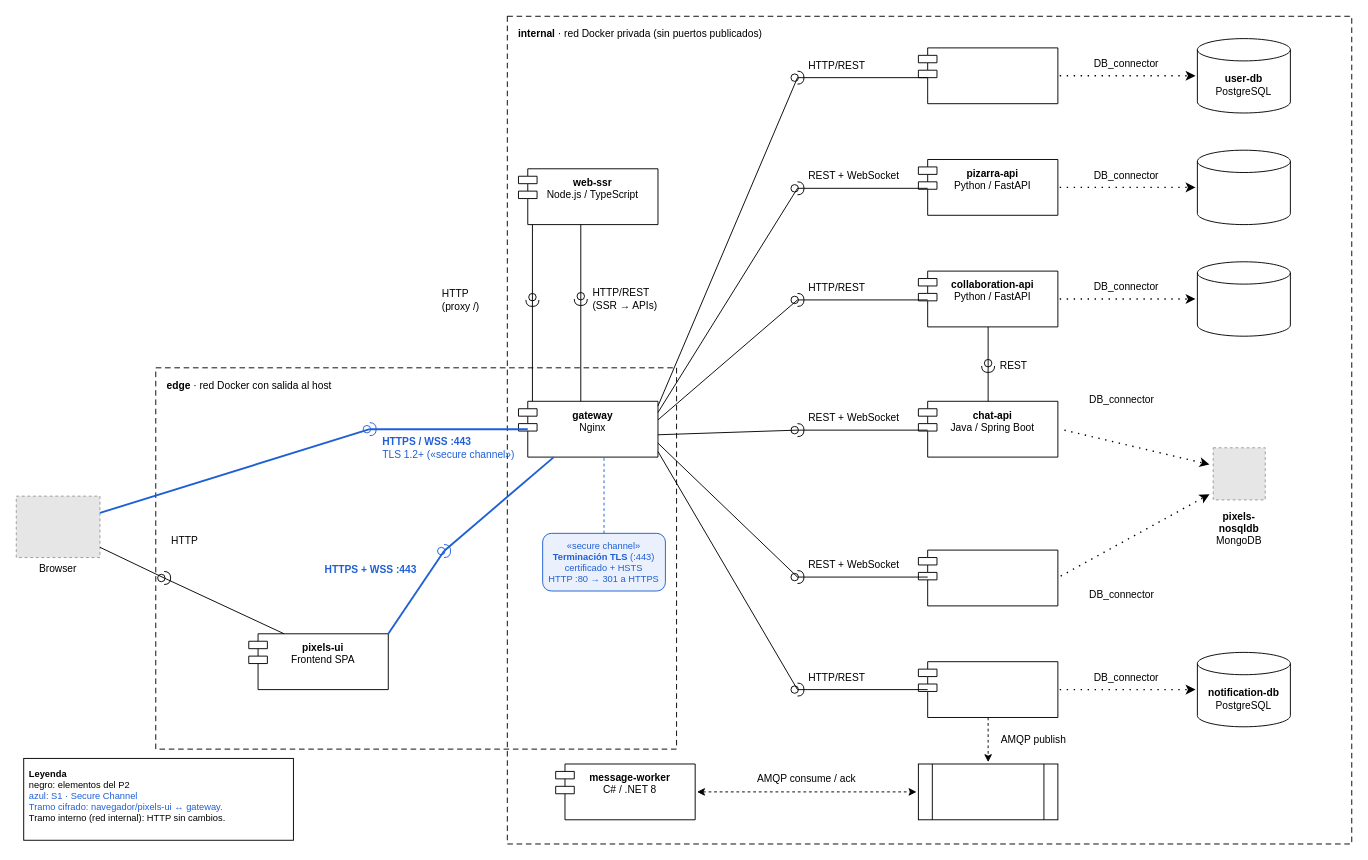
Image size: 1368x860. Some labels were removed from this diagram. Grey dashed boxes stand in for pictures. The shapes that lost their labels are listed below. From the top down, each one's centre as x and y in pixels, then its label:
At point 987,75: "auth-api Go".
At point 1243,187: "canvas-db PostgreSQL".
At point 1243,298: "board-db PostgreSQL".
At point 987,577: "pixels-api Rust / Axum".
At point 987,689: "notification-api C# / .NET 8".
At point 987,791: "rabbitmq RabbitMQ".
